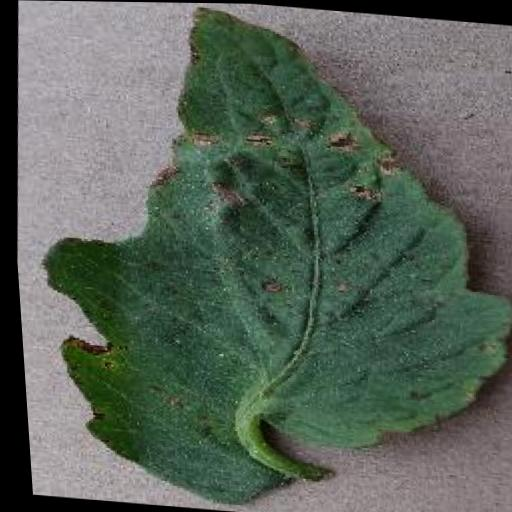Bacterial Spot: (3, 0, 512, 512)
